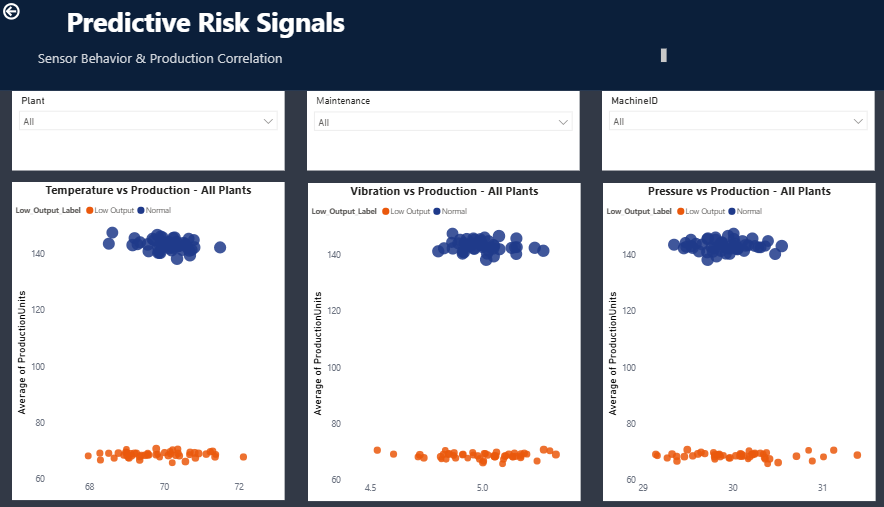

The page's visual inventory and layout, read from the dashboard file:
{"tool":"powerbi","page":{"name":"Sensor Risk & Predictive Signals ","canvas":[1280,720],"ordinal":2},"visuals":[{"type":"shape","box":[16,128,1248,592],"z":0},{"type":"slicer","fields":{"Values":["HOM.MachineID"]},"box":[896,0,176,80],"z":1000},{"type":"image","box":[96,48,176,48],"z":2000},{"type":"textbox","box":[16,0,1248,128],"z":3000},{"type":"textbox","box":[64,64,896,32],"z":4000},{"type":"scatterChart","fields":{"X":["Avg(HOM.Temperature)"],"Y":["Avg(HOM.ProductionUnits)"],"Size":["Sum(HOM.DefectCount)"],"Category":["HOM.MachineID"],"Series":["HOM.Low_Output_Label"]},"box":[32,256,384,448],"z":5000},{"type":"scatterChart","fields":{"X":["Avg(HOM.Vibration)"],"Y":["Avg(HOM.ProductionUnits)"],"Size":["Sum(HOM.DefectCount)"],"Category":["HOM.MachineID"],"Series":["HOM.Low_Output_Label"]},"box":[449.2,257.4,384,448],"z":6000},{"type":"scatterChart","fields":{"X":["Avg(HOM.Pressure)"],"Y":["Avg(HOM.ProductionUnits)"],"Size":["Sum(HOM.DefectCount)"],"Category":["HOM.MachineID"],"Series":["HOM.Low_Output_Label"]},"box":[865.2,257.4,384,448],"z":7000},{"type":"slicer","fields":{"Values":["HOM.MachineID"]},"box":[448,128,384,112],"z":8000},{"type":"slicer","fields":{"Values":["HOM.Plant"]},"box":[32,128,384,112],"z":9000},{"type":"actionButton","box":[0,0,100,40],"z":10000},{"type":"slicer","fields":{"Values":["HOM.MachineID"]},"box":[864,128,384,112],"z":11001}]}

Visuals, with their boxes in screenshot pixels (x1, y1, x2, y2), scaled from the page's 1280x720 canvas onto the 884x507 screenshot:
shape: [x1=11, y1=90, x2=873, y2=506]
slicer - HOM.MachineID: [x1=619, y1=0, x2=740, y2=56]
image: [x1=66, y1=34, x2=188, y2=68]
textbox: [x1=11, y1=0, x2=873, y2=90]
textbox: [x1=44, y1=45, x2=663, y2=68]
scatterChart - Avg(HOM.Temperature) x Avg(HOM.ProductionUnits): [x1=22, y1=180, x2=287, y2=496]
scatterChart - Avg(HOM.Vibration) x Avg(HOM.ProductionUnits): [x1=310, y1=181, x2=575, y2=497]
scatterChart - Avg(HOM.Pressure) x Avg(HOM.ProductionUnits): [x1=598, y1=181, x2=863, y2=497]
slicer - HOM.MachineID: [x1=309, y1=90, x2=575, y2=169]
slicer - HOM.Plant: [x1=22, y1=90, x2=287, y2=169]
actionButton: [x1=0, y1=0, x2=69, y2=28]
slicer - HOM.MachineID: [x1=597, y1=90, x2=862, y2=169]
